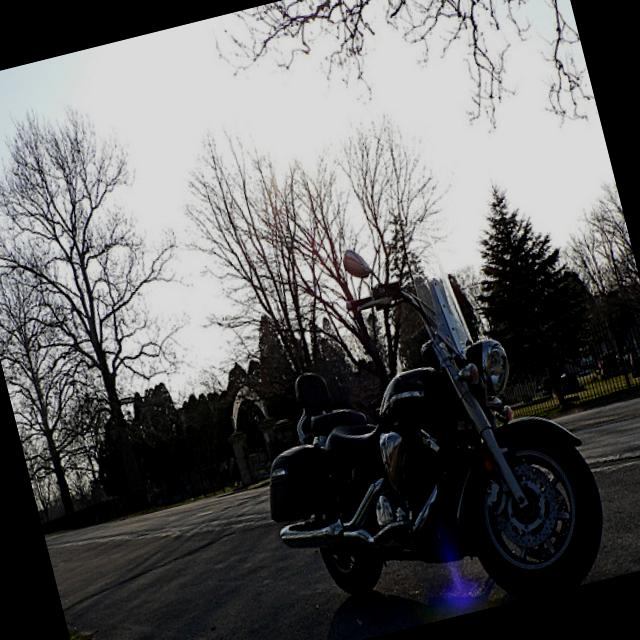Vehicle: (214, 206, 620, 640)
